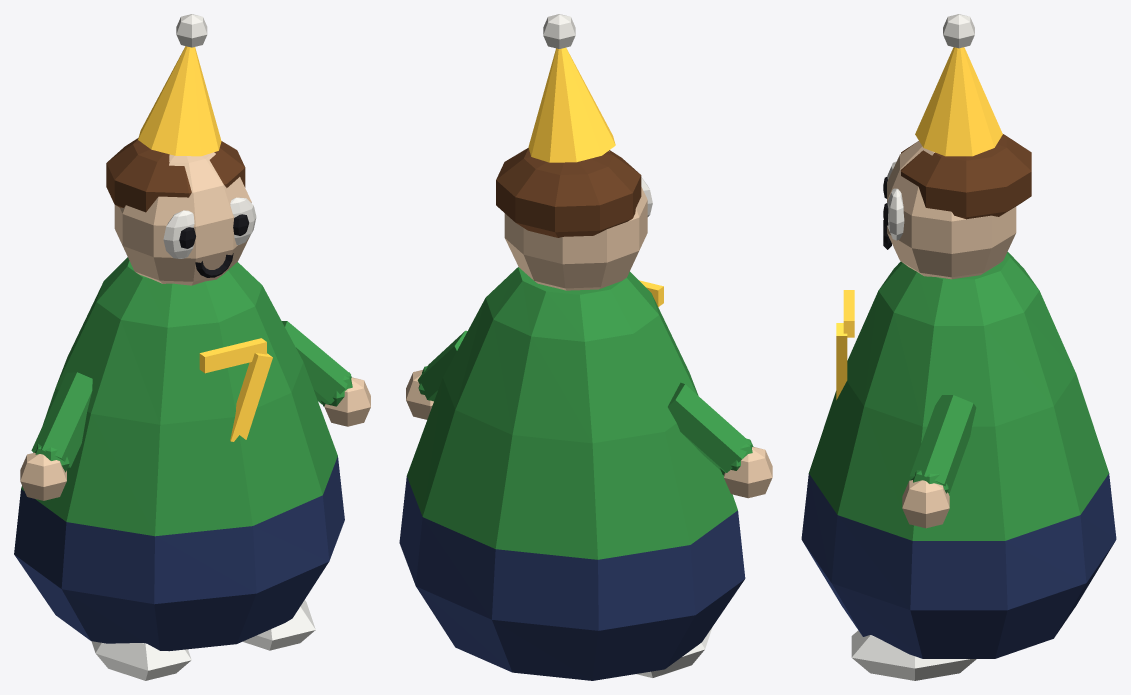
Rendered from npc_tomasito.glb.
The picture shows the model from 3 angles, left to right: view 1: azimuth 30°, elevation 25°; view 2: azimuth 150°, elevation 25°; view 3: azimuth 270°, elevation 25°; orthographic projection. The views are drawn at different scales.
Visible parts, largest first — view 1: body_tomasito_shirt, body_kid_shorts, head_skin_crema, arms_tomasito_shirt, hat_gold, head_hair_brown, legs_kid_shoes, arms_skin_crema, body_gold, face_white, face_black, hat_white; view 2: body_tomasito_shirt, body_kid_shorts, head_hair_brown, head_skin_crema, hat_gold, arms_tomasito_shirt, arms_skin_crema, hat_white, legs_kid_shoes; view 3: body_tomasito_shirt, body_kid_shorts, head_skin_crema, head_hair_brown, hat_gold, arms_tomasito_shirt, legs_kid_shoes, arms_skin_crema, body_gold, hat_white, face_white.
Part boxes in pixels (x1,y1,x2,y2): body_tomasito_shirt: [21, 257, 337, 536]; body_kid_shorts: [14, 456, 344, 651]; head_skin_crema: [114, 152, 251, 285]; arms_tomasito_shirt: [31, 321, 352, 472]; hat_gold: [138, 46, 221, 156]; head_hair_brown: [106, 138, 245, 212]; legs_kid_shoes: [91, 600, 315, 680]; arms_skin_crema: [20, 377, 370, 500]; body_gold: [199, 338, 272, 441]; face_white: [163, 197, 256, 258]; face_black: [179, 214, 249, 277]; hat_white: [176, 14, 207, 47]; body_tomasito_shirt: [407, 267, 737, 559]; body_kid_shorts: [399, 476, 745, 680]; head_hair_brown: [496, 148, 641, 237]; head_skin_crema: [504, 151, 647, 290]; hat_gold: [528, 47, 615, 162]; arms_tomasito_shirt: [417, 330, 753, 475]; arms_skin_crema: [406, 370, 772, 498]; hat_white: [543, 14, 575, 48]; legs_kid_shoes: [636, 627, 712, 677]; body_tomasito_shirt: [809, 252, 1108, 540]; body_kid_shorts: [801, 473, 1116, 658]; head_skin_crema: [887, 141, 1016, 279]; head_hair_brown: [901, 134, 1031, 219]; hat_gold: [915, 47, 1002, 156]; arms_tomasito_shirt: [909, 395, 976, 493]; legs_kid_shoes: [851, 630, 976, 680]; arms_skin_crema: [902, 480, 949, 528]; body_gold: [836, 290, 854, 399]; hat_white: [943, 14, 974, 48]; face_white: [887, 161, 904, 240].
Size of the model in its own units: 1.13 by 1.91 by 0.86.
